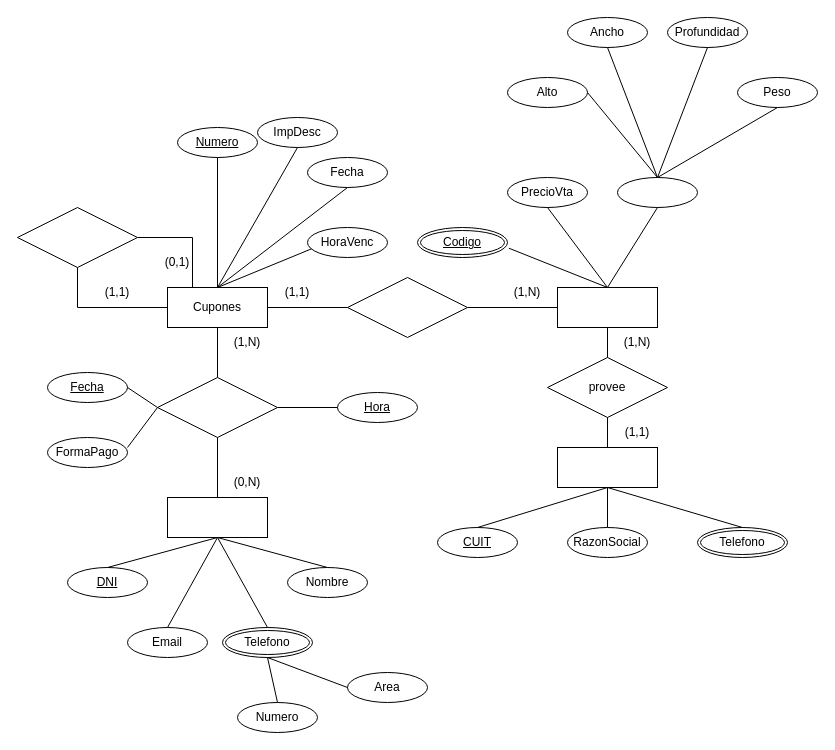
The diagram is 835 pixels wide and 750 high, and some of its shapes have lost their labels. Here are the shapes that lost their labels. From the top down, the centre of each, then its label:
point (657, 192): Dimensiones
point (77, 237): EsSuperCupon
point (407, 307): asociado
point (607, 307): Producto
point (217, 407): compre
point (607, 467): Proveedor
point (217, 517): Cliente
